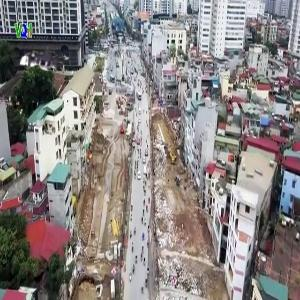drone: (17, 32, 78, 93)
